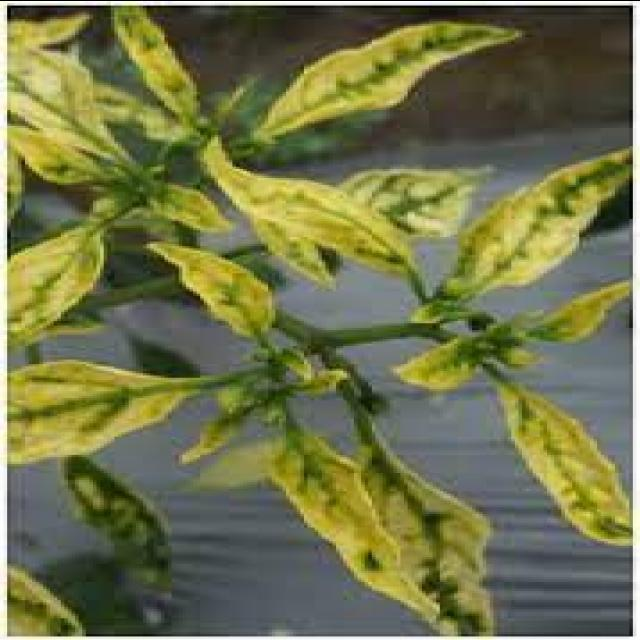virus_kuning: (244, 18, 532, 138), (430, 146, 630, 314), (364, 444, 502, 636), (264, 435, 406, 621), (135, 240, 288, 344)
